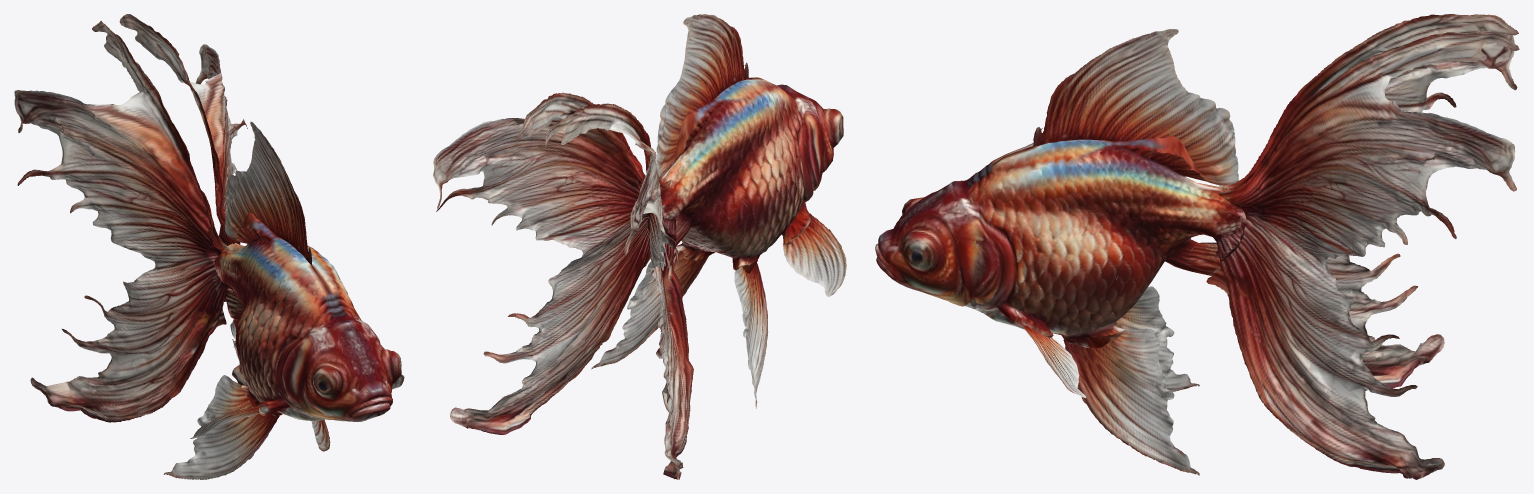
File: goldfish-natural-lo.glb
3 renders of one model, left to right at view 1: azimuth 30°, elevation 25°; view 2: azimuth 150°, elevation 25°; view 3: azimuth 270°, elevation 25°, orthographic. The views are drawn at different scales.
Parts seen in each view (by area): view 1: mesh_0; view 2: mesh_0; view 3: mesh_0.
Part boxes in pixels (box(x1,y1,x2,y2)): mesh_0: box(14, 14, 404, 479); mesh_0: box(433, 14, 846, 479); mesh_0: box(875, 14, 1519, 479).
Size of the model in its own units: 0.9213 by 1.33 by 1.9.
Materials: 1 (1 with a texture image).
